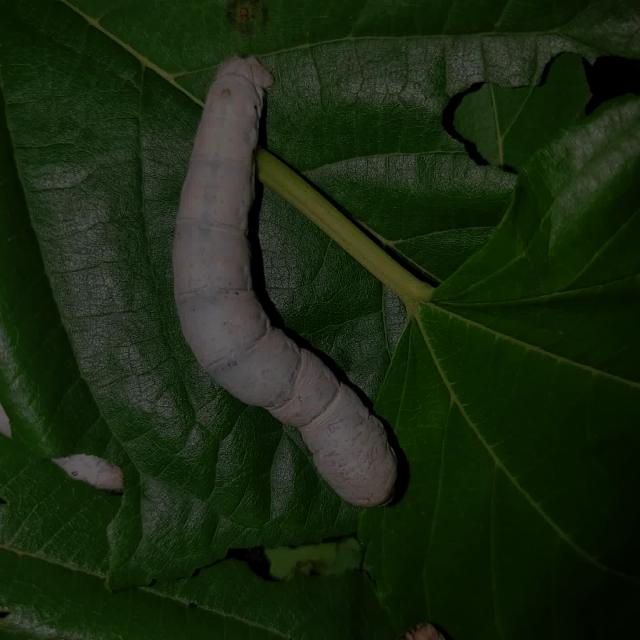Healthy: (135, 36, 456, 532)
